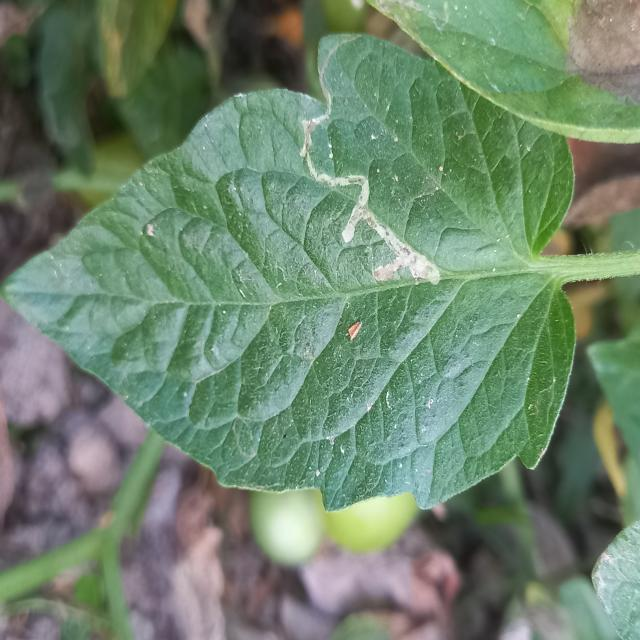Tuta absoluta: (273, 109, 445, 310)
